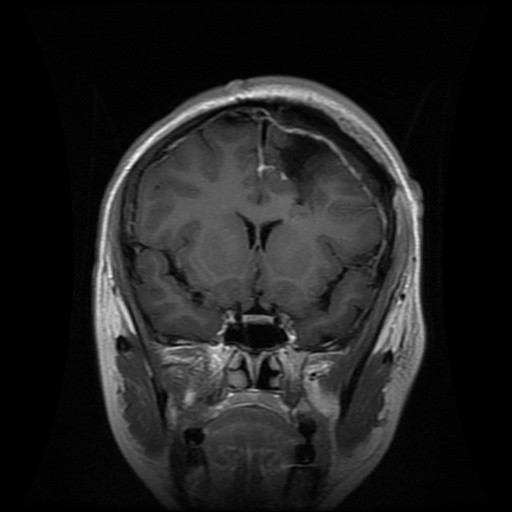glioma: (270, 133, 332, 195)
